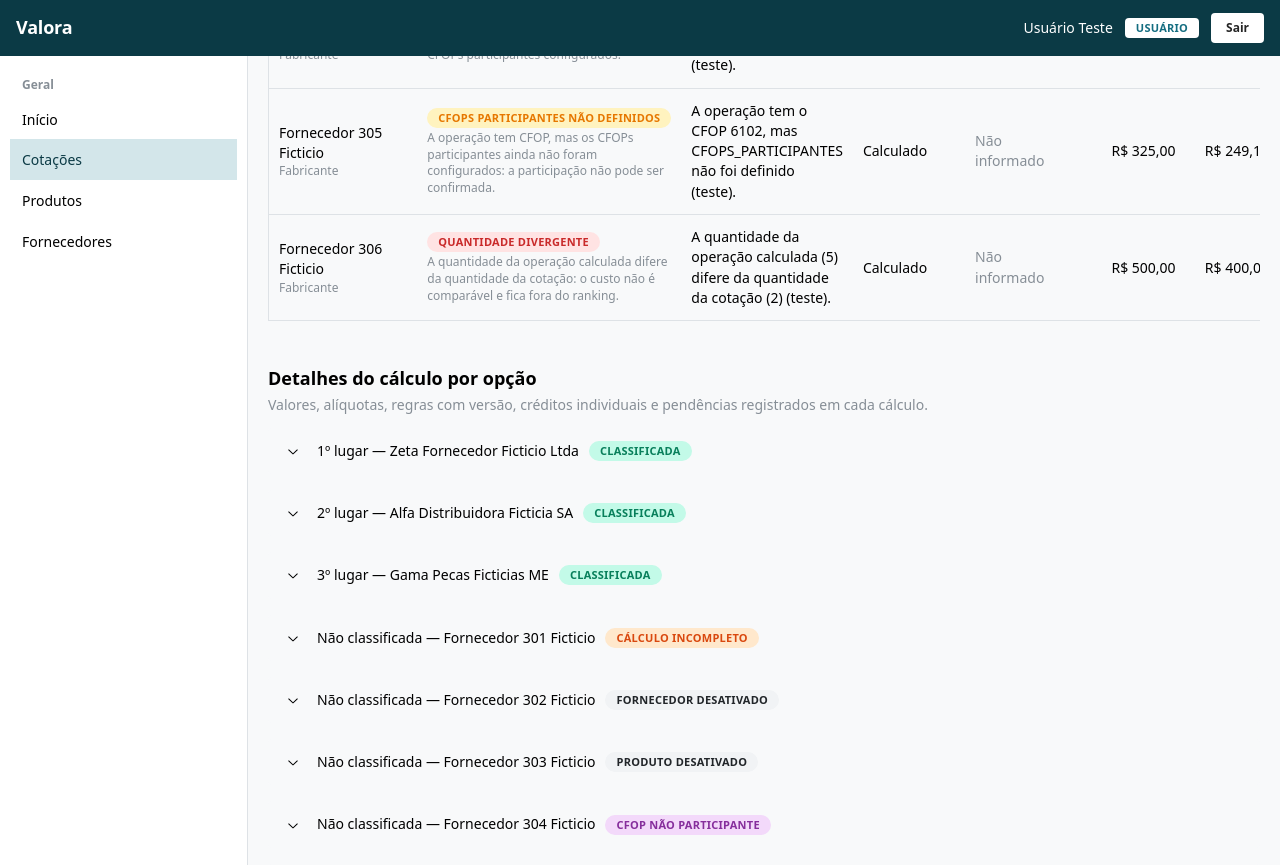
Scenario: ComparacaoPage — rastreabilidade › mostra créditos individuais, regras com versão, parâmetros e totais do cálculo
The image size is (1280, 865).
(page scrolled)
Click the button named "Detalhes do cálculo: 1º lugar — Zeta Fornecedor Ficticio Ltda" at (448, 450), box [269,429,1259,473]
(page scrolled)
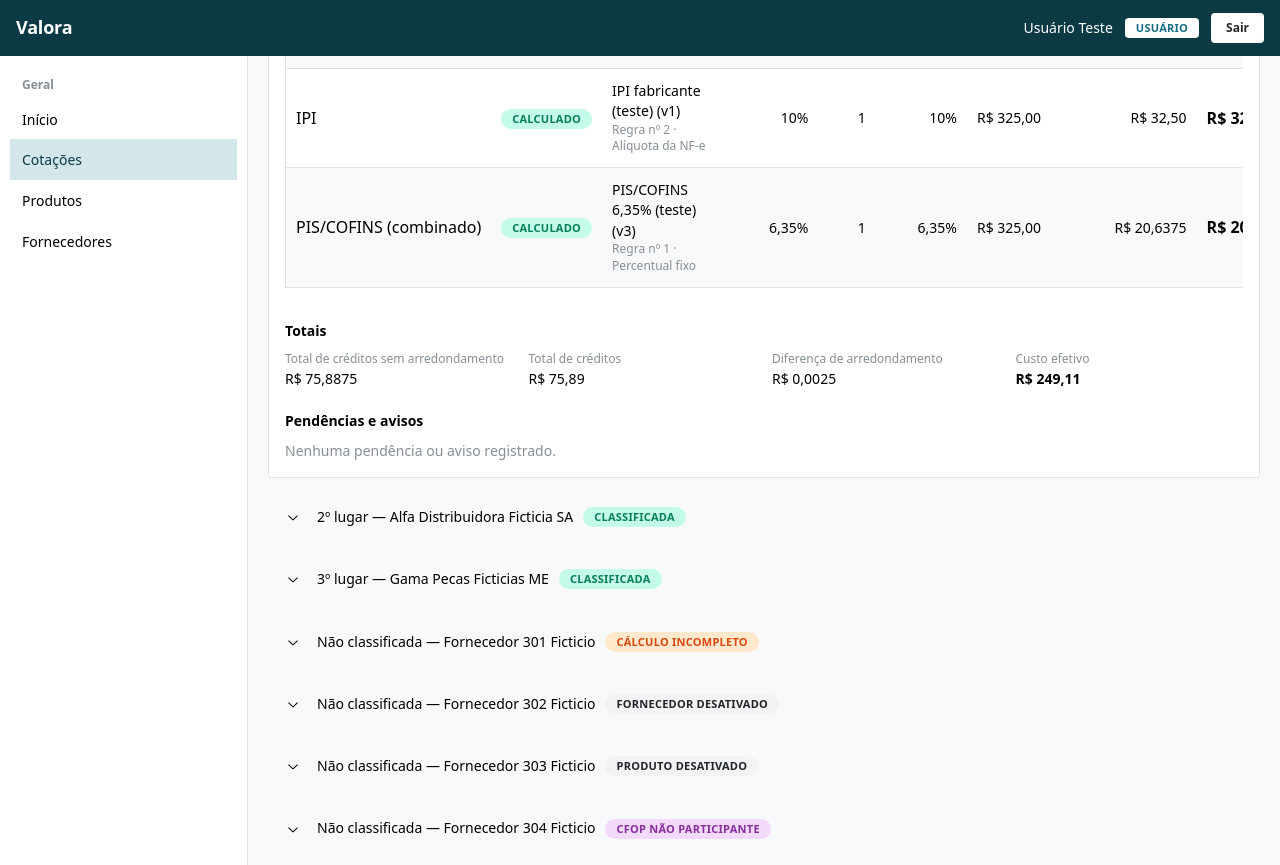
Now the row that starts with "PIS/COFINS (combinado)" is shown, box [296,216,481,238]
Now the row that starts with "PIS/COFINS (combinado)" shows "PIS/COFINS 6,35% (teste) (v3)", box [612,180,696,240]
Now the row that starts with "PIS/COFINS (combinado)" shows "Percentual fixo", box [612,240,696,274]
